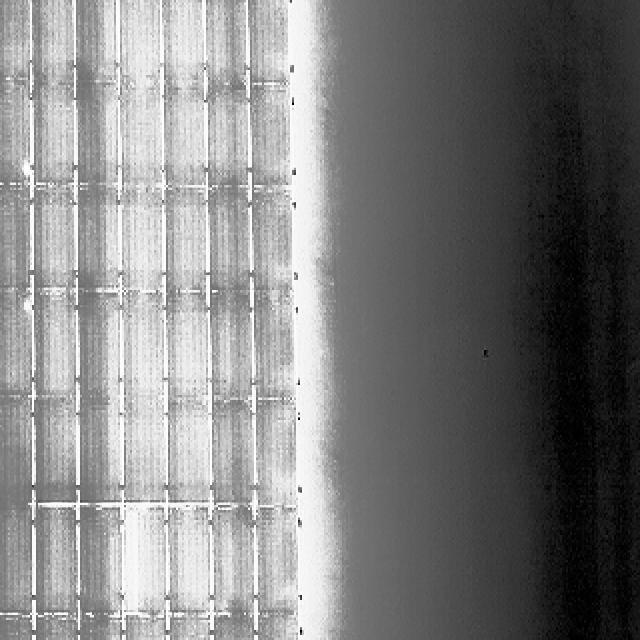Hotspots: (16, 157, 31, 181)
PV-modules: (209, 401, 258, 509), (158, 91, 209, 194), (34, 506, 81, 617), (123, 505, 169, 618), (209, 507, 255, 617), (77, 506, 122, 618), (168, 506, 213, 617), (121, 293, 166, 403), (73, 293, 118, 403), (75, 184, 121, 291), (204, 188, 250, 295), (33, 291, 78, 400), (120, 185, 166, 291), (32, 190, 78, 296), (34, 398, 80, 504), (122, 401, 169, 504), (251, 508, 295, 618), (76, 399, 122, 504), (207, 293, 252, 400), (168, 293, 212, 402), (30, 84, 76, 188), (166, 186, 211, 292), (255, 398, 299, 506), (119, 87, 164, 192), (250, 86, 295, 190), (254, 294, 298, 400), (252, 189, 295, 297), (169, 400, 213, 504), (72, 86, 116, 189), (204, 90, 248, 191), (203, 0, 250, 89), (118, 2, 163, 90), (162, 2, 207, 90), (70, 0, 116, 84), (30, 0, 78, 80), (248, 0, 292, 87), (0, 290, 32, 400), (0, 507, 32, 615), (0, 182, 32, 290), (0, 395, 30, 505), (0, 80, 30, 185), (0, 0, 30, 78), (120, 615, 166, 640), (256, 615, 300, 640), (168, 617, 214, 640), (34, 617, 80, 640), (76, 617, 122, 640), (212, 617, 254, 640), (0, 617, 38, 640)
